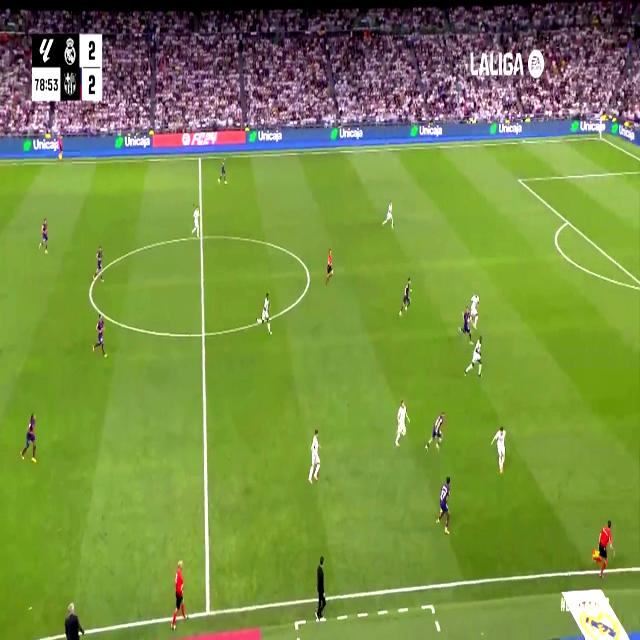bigarea_top_inner: (516, 172, 522, 186)
corner: (596, 132, 604, 142)
halfcircle_bottom: (198, 319, 210, 348)
halfcircle_top: (196, 226, 207, 247)
midline_bottom_intersection: (200, 594, 216, 626)
midline_top_intersection: (196, 151, 204, 165)
top_arc_area_intersection: (564, 213, 572, 229)
